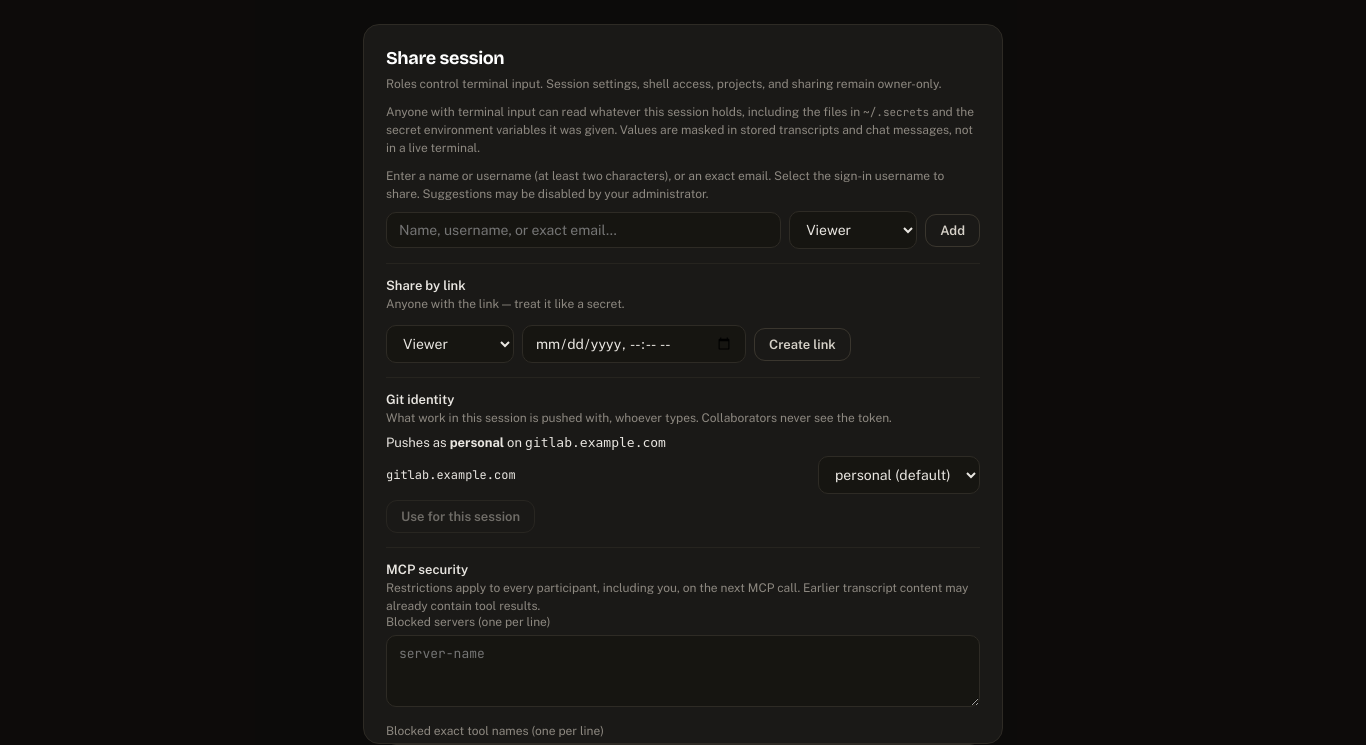
Test case: ShareSessionDialog git identity › says which token the session pushes with and switches it in place
Expected: the element showing "Pushes as personal on gitlab.example.com" is shown, [386, 435, 666, 450]
Expected: the button "Use for this session" is disabled, [386, 500, 535, 533]
Step 1. Select "group: platform" in the 3rd dropdown → [899, 475], box [818, 456, 980, 494]
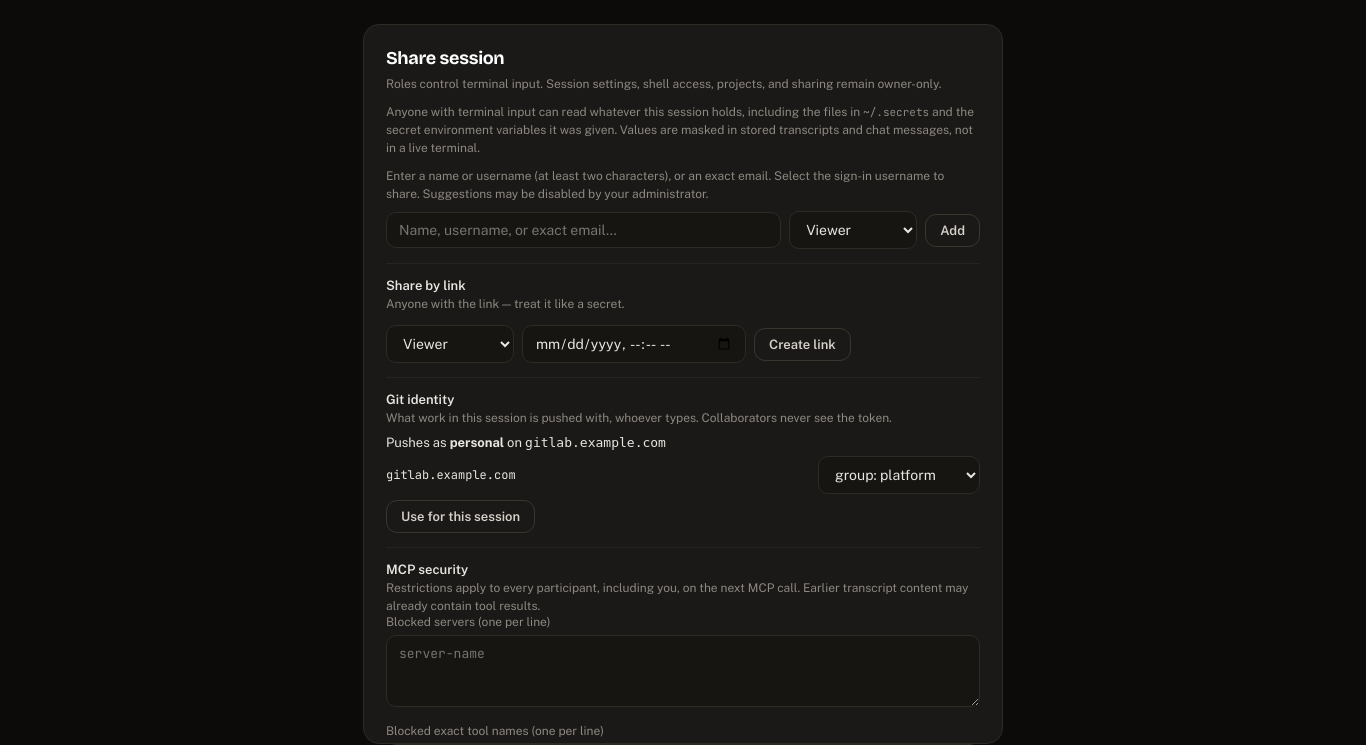
Step 2. Click the button "Use for this session" → [460, 516], box [386, 500, 535, 533]
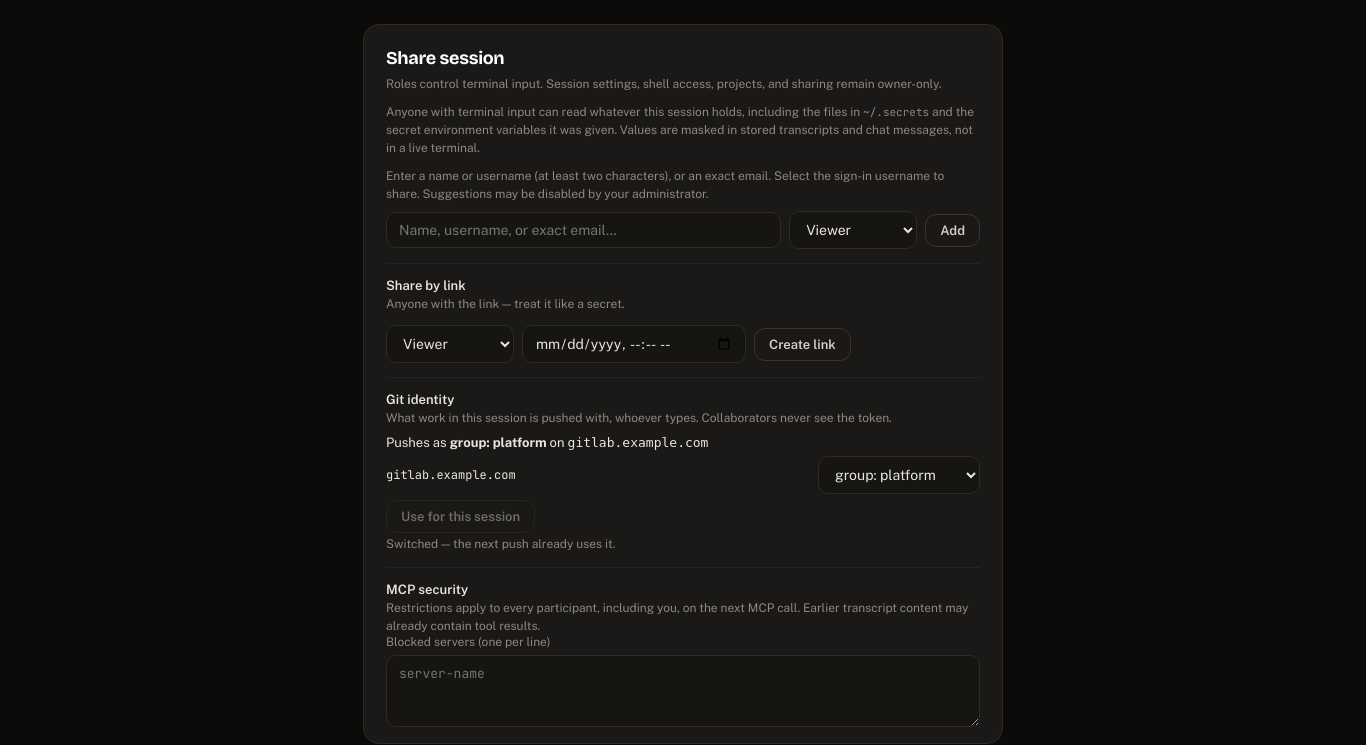
Expected: the element showing "Pushes as group: platform on gitlab.example.com" is shown, [386, 435, 708, 450]
Expected: the text "Switched — the next push already uses it." is shown, [386, 537, 615, 551]
